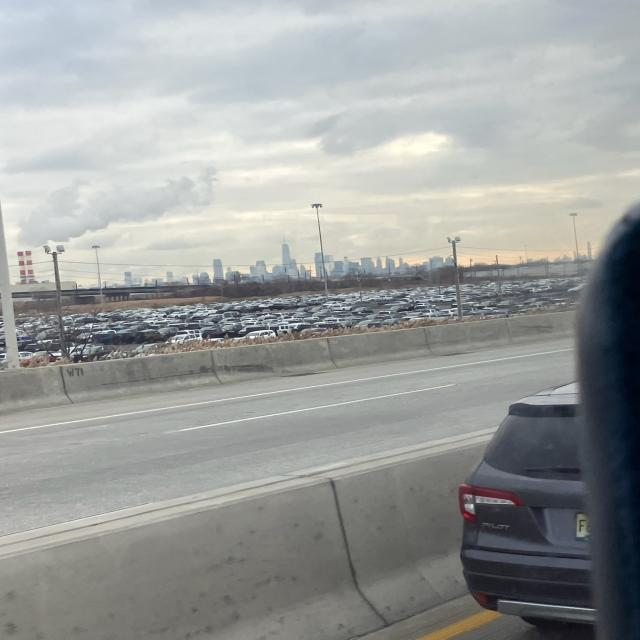WTC: (281, 236, 291, 266)
